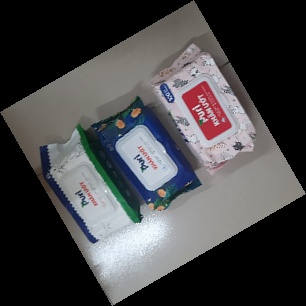Puri Trang: (36, 123, 143, 246)
Puri Xanh: (87, 95, 203, 213)
Puri hong: (148, 40, 257, 177)
